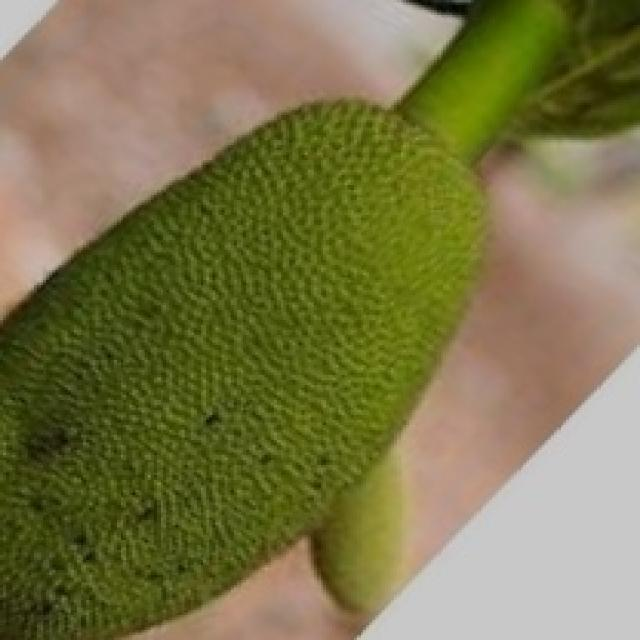Fruit: (0, 265, 394, 637), (148, 68, 535, 420)
